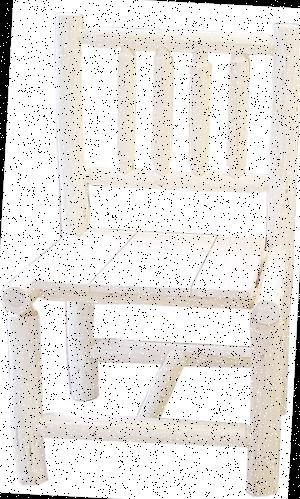Silla: (0, 6, 299, 495)
